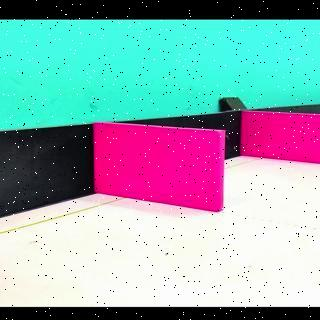xparking: (102, 134, 221, 207), (247, 116, 310, 160)
